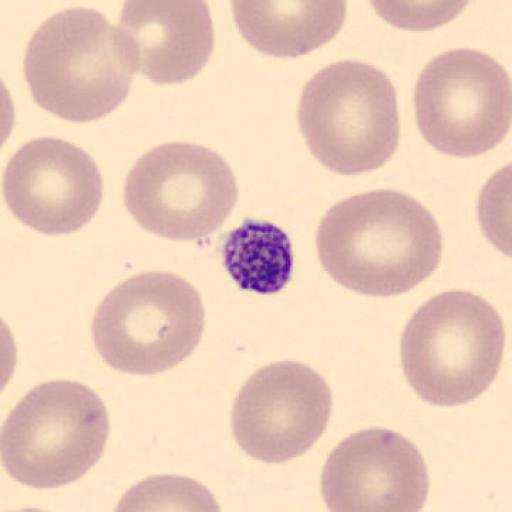Platelet: (219, 216, 297, 296)
RBC: (20, 4, 142, 126), (314, 187, 444, 300), (398, 287, 507, 410), (88, 268, 208, 378), (294, 58, 401, 178), (0, 378, 112, 492), (121, 138, 240, 244), (411, 46, 511, 160), (229, 358, 334, 466), (2, 133, 105, 238), (318, 424, 431, 512), (115, 0, 216, 87), (229, 0, 350, 61), (110, 471, 224, 512), (475, 158, 512, 262), (366, 0, 475, 34), (1, 314, 19, 396), (0, 72, 18, 152), (1, 503, 68, 512)
